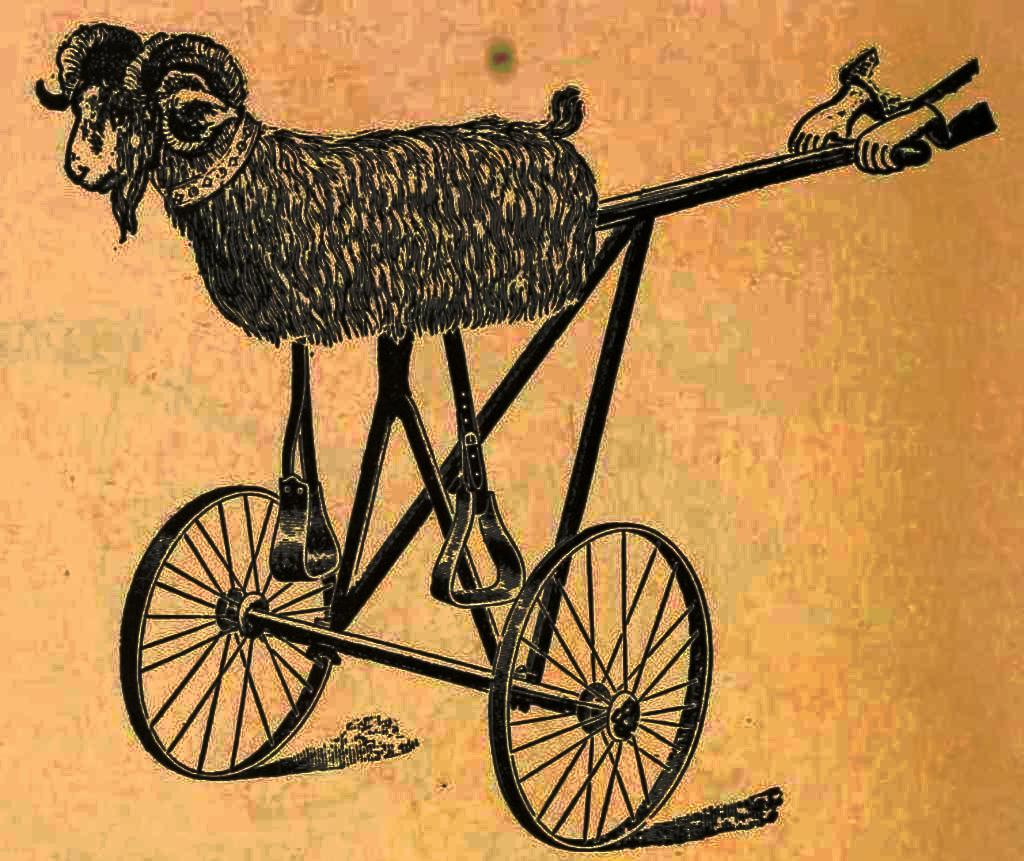Sheep: (38, 24, 594, 338)
